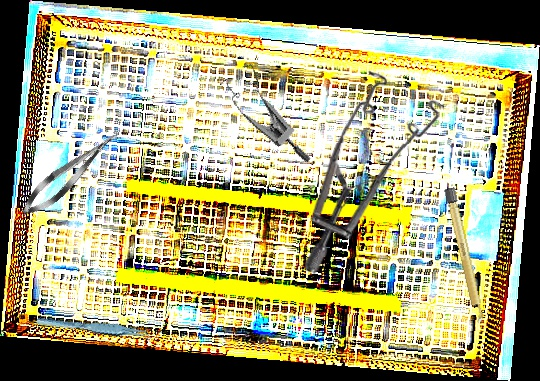Micro Scissor: (15, 124, 126, 223)
Scalpel Handle: (443, 187, 487, 326)
Speculum: (305, 67, 445, 277), (207, 55, 337, 165)
Tissue Forceps: (36, 304, 153, 353)
